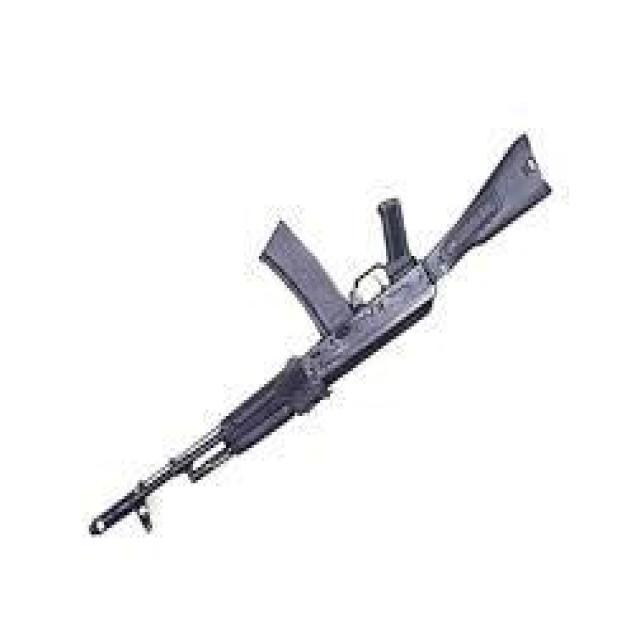weapon: (88, 133, 553, 538)
